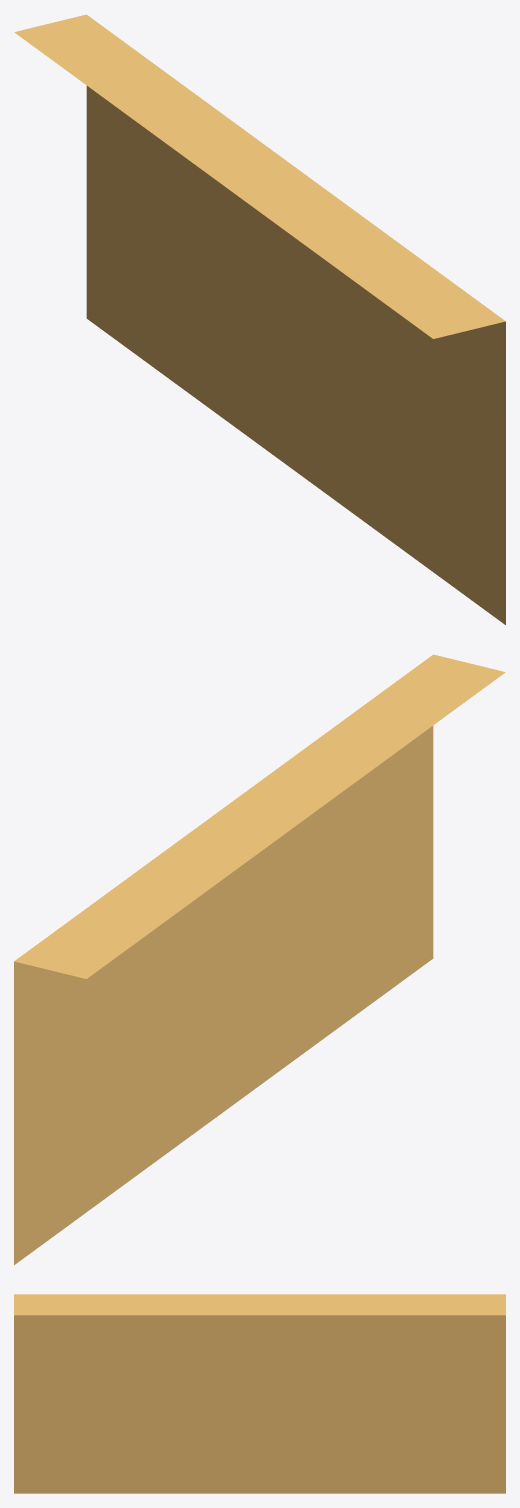
3 views of the same model, one above another, from view 1: azimuth 30°, elevation 25°; view 2: azimuth 150°, elevation 25°; view 3: azimuth 270°, elevation 25° (orthographic). The views are drawn at different scales.
Bounding box in the file's own units: 0.1 × 0.4 × 1.
